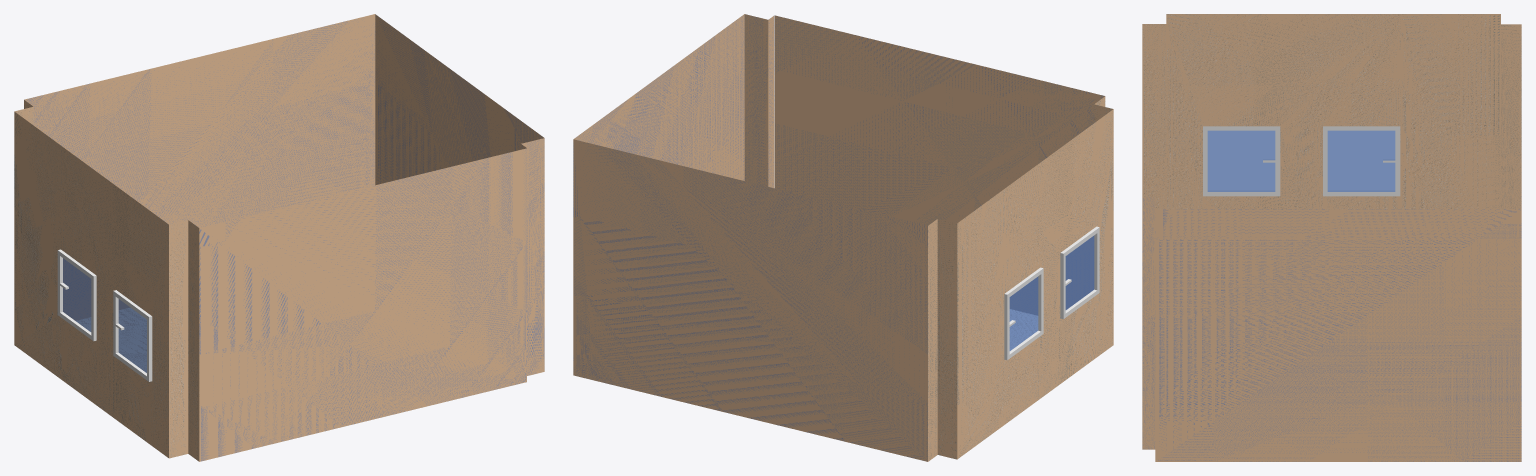
The model's file is DES029.obj.
3 views of the same model, side by side, from view 1: azimuth 30°, elevation 25°; view 2: azimuth 150°, elevation 25°; view 3: azimuth 270°, elevation 25° (orthographic). The views are drawn at different scales.
Visible parts, largest first — view 1: Mesh7 DES029 Model, Mesh1 ventana3_1_1 DES029 Model, Mesh4 ventana3_1_2 DES029 Model; view 2: Mesh7 DES029 Model, Mesh1 ventana3_1_1 DES029 Model, Mesh4 ventana3_1_2 DES029 Model; view 3: Mesh7 DES029 Model, Mesh1 ventana3_1_1 DES029 Model, Mesh4 ventana3_1_2 DES029 Model.
Boxes of the visible parts, x1,y1,x2,y2 form: Mesh7 DES029 Model: (14,14,544,461); Mesh1 ventana3_1_1 DES029 Model: (57,249,96,341); Mesh4 ventana3_1_2 DES029 Model: (113,290,152,381); Mesh7 DES029 Model: (573,14,1113,461); Mesh1 ventana3_1_1 DES029 Model: (1004,267,1043,360); Mesh4 ventana3_1_2 DES029 Model: (1060,226,1099,319); Mesh7 DES029 Model: (1142,14,1521,461); Mesh1 ventana3_1_1 DES029 Model: (1323,126,1400,196); Mesh4 ventana3_1_2 DES029 Model: (1203,126,1280,196).
Bounding box in the file's own units: 6.02 × 3.6 × 4.9.
7 materials, 2 textured.
